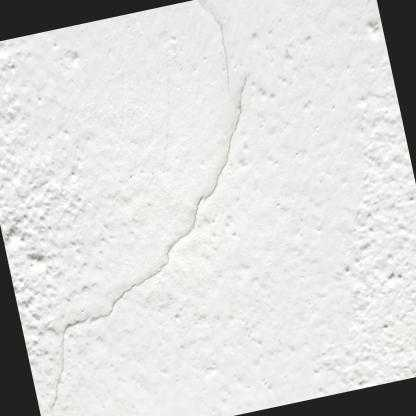crack: (47, 0, 248, 416)
